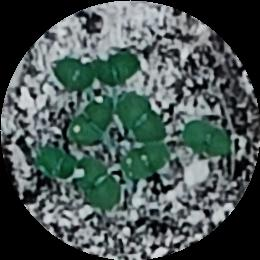Basil: (183, 118, 233, 157), (117, 95, 164, 136), (83, 165, 121, 209), (130, 138, 170, 178), (96, 50, 144, 83), (73, 102, 108, 144), (52, 57, 91, 89), (41, 149, 73, 180)
